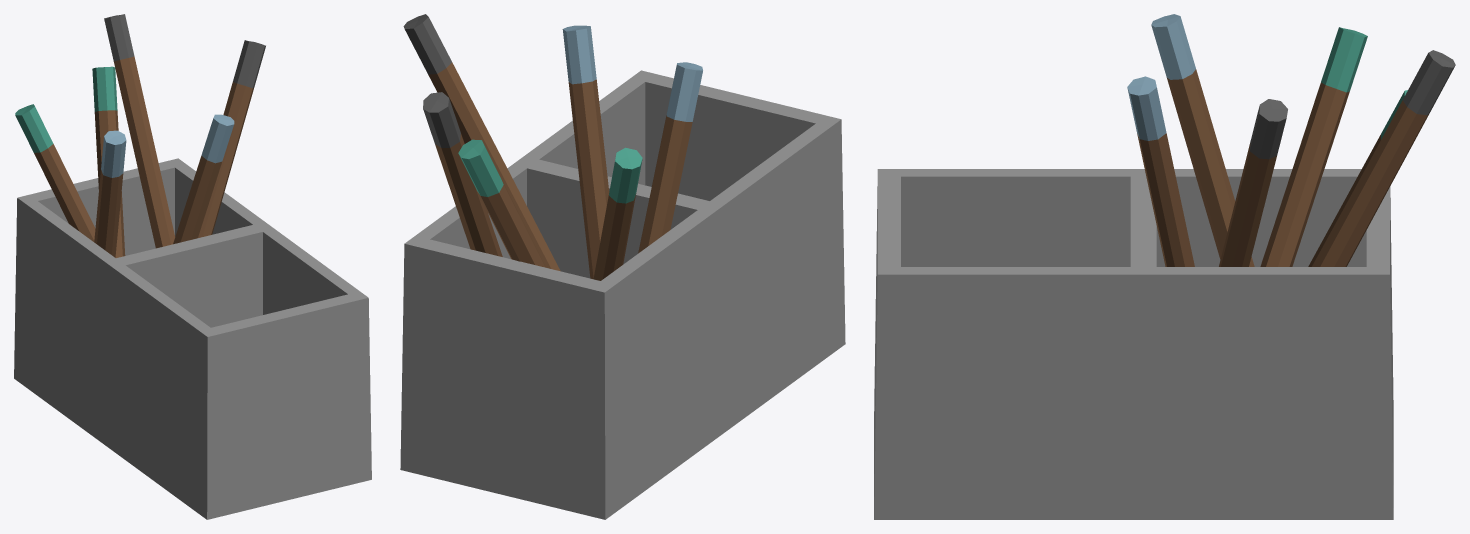
Rendered from Pens_1.fbx.
3 renders of one model, left to right at view 1: azimuth 30°, elevation 25°; view 2: azimuth 150°, elevation 25°; view 3: azimuth 270°, elevation 25°, orthographic. The views are drawn at different scales.
Parts seen in each view (by area): view 1: Pens_1; view 2: Pens_1; view 3: Pens_1.
Part boxes in pixels (left/top/right/bottom): Pens_1: left=14, top=14, right=371, bottom=519; Pens_1: left=400, top=14, right=845, bottom=519; Pens_1: left=874, top=14, right=1455, bottom=519.
Bounding box in the file's own units: 21.85 × 37.35 × 30.95.
